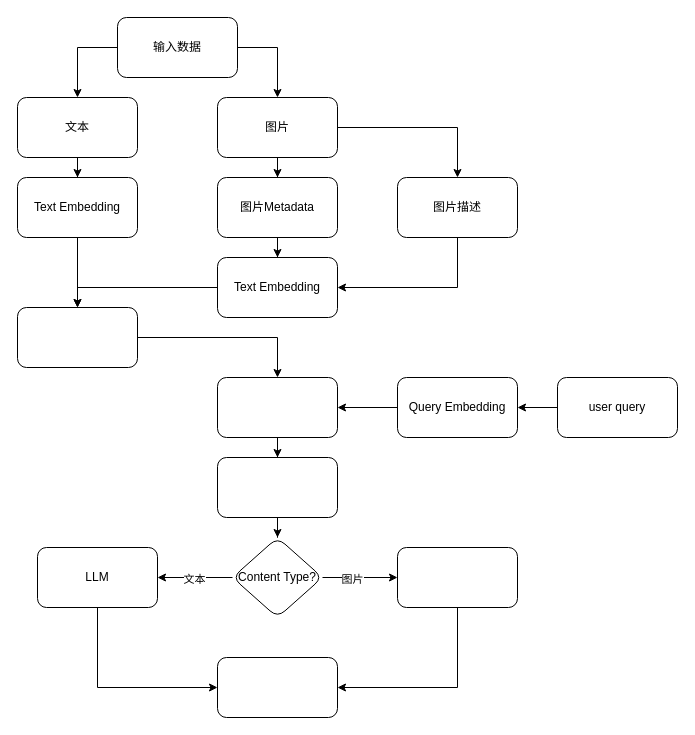
Image size: 695x735. Some labels were removed from this diagram. Each missing label, with the centre of its shape:
MLLM（多模态LLM）: (457,577)
Retrieval: (277,407)
Unified Text Vector Store: (77,337)
抽取的对应文本: (277,487)
最终结果: (277,687)
